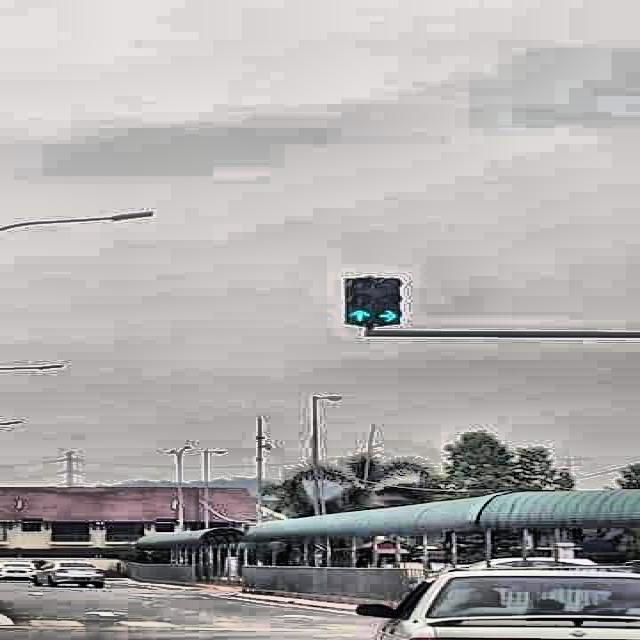green: (345, 276, 375, 325), (375, 278, 403, 322)
